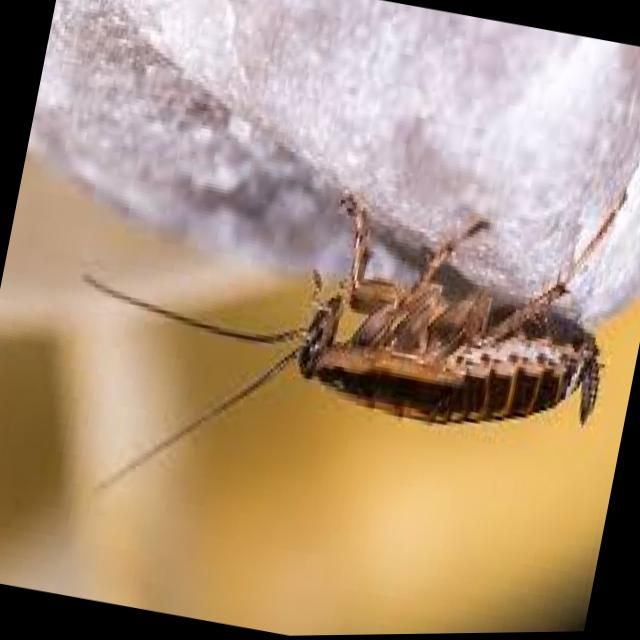Cockroach: (27, 93, 640, 596)
